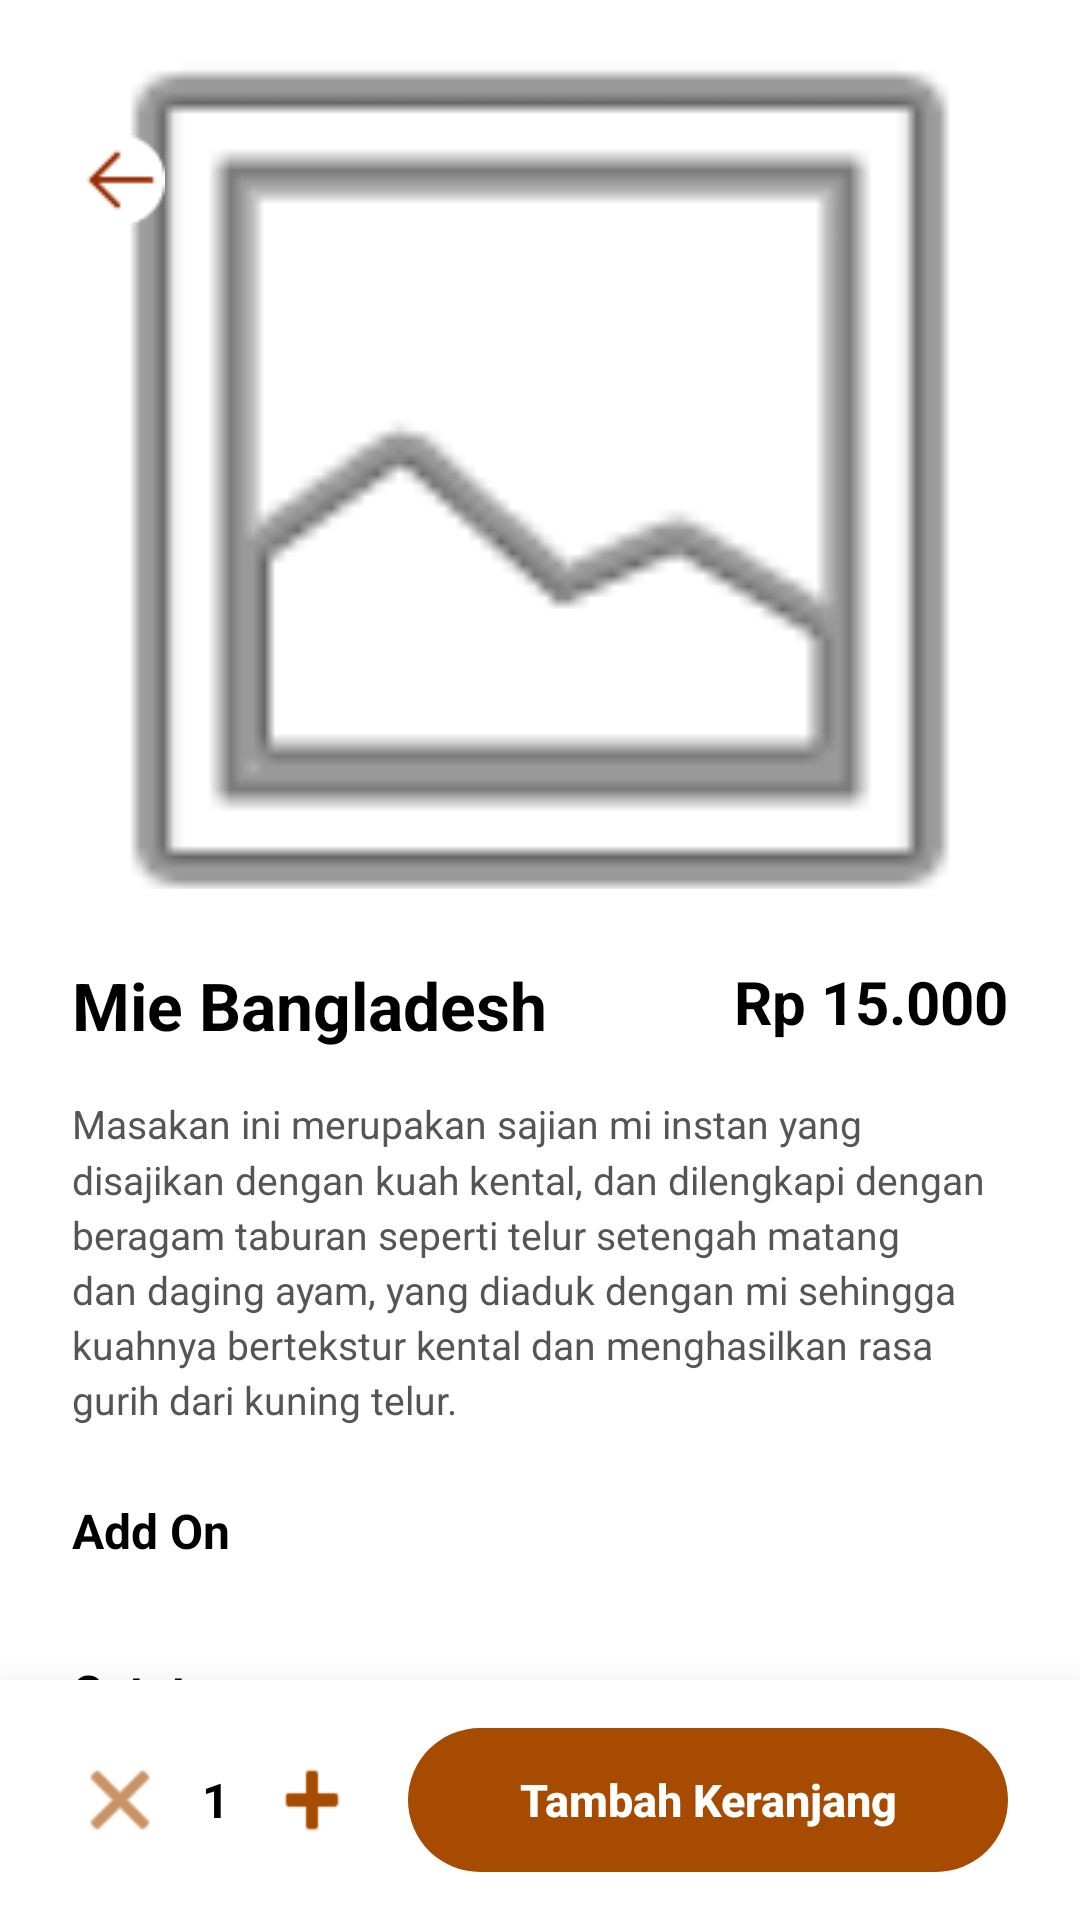

Named icons in this screenshot (1080px x 1920px) and their centers, point (x, y):
add: point (312, 1800)
back: point (130, 180)
close clear cancel: point (120, 1800)
